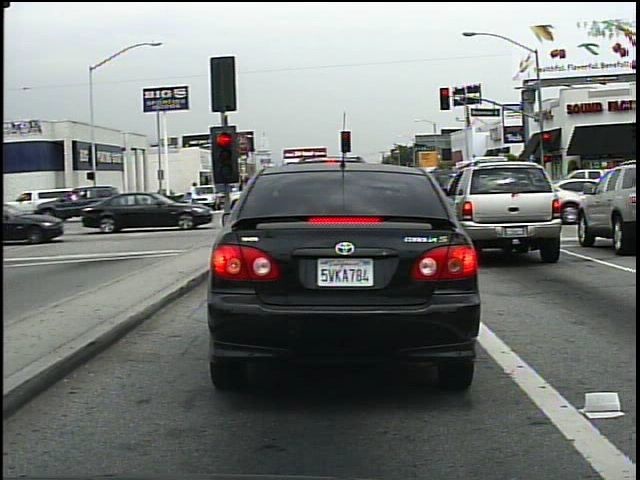person: (182, 177, 205, 216)
